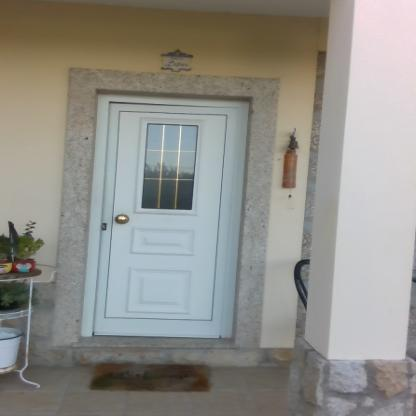door: (104, 100, 228, 338)
knob: (116, 214, 128, 225)
